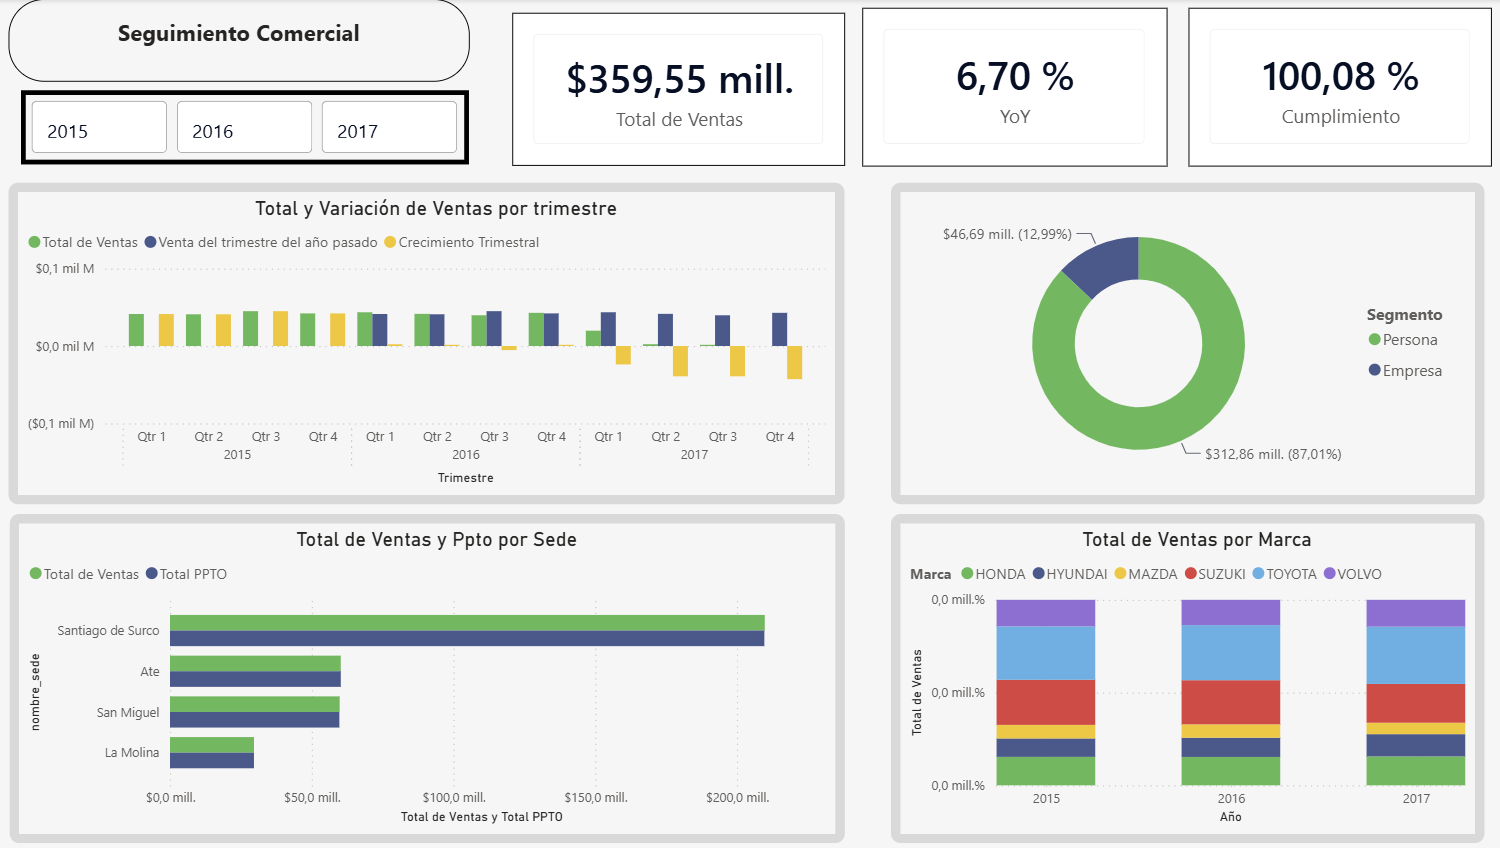

The dashboard page shown, as its layout file describes it:
{"tool":"powerbi","page":{"name":"Sales","canvas":[1280,720],"ordinal":0},"visuals":[{"type":"textbox","box":[10.5,0,388,69.4],"z":0},{"type":"advancedSlicerVisual","fields":{"Values":["DimFechas.Año"]},"box":[21.3,77.2,377.1,62.7],"z":1000},{"type":"cardVisual","fields":{"Data":["Tabla_Medidas.Total de Ventas"]},"box":[433.7,11.6,280.2,129.1],"z":2000},{"type":"cardVisual","fields":{"Data":["Tabla_Medidas.YoY"]},"box":[728.6,7.4,256.5,133.5],"z":3000},{"type":"cardVisual","fields":{"Data":["Tabla_Medidas.Cumplimiento"]},"box":[1003,7.4,255.5,133.5],"z":4000},{"type":"clusteredColumnChart","title":"Total y Variación de Ventas por trimestre","fields":{"Y":["Tabla_Medidas.Total de Ventas","Tabla_Medidas.Venta del trimestre del año pasado","Tabla_Medidas.Crecimiento Trimestral"],"Category":["DimFechas.Date.Variación.Jerarquía de fechas.Año","DimFechas.Date.Variación.Jerarquía de fechas.Trimestre"]},"box":[10.5,154.6,703.4,270.2],"z":5000},{"type":"donutChart","fields":{"Y":["Tabla_Medidas.Total de Ventas"],"Category":["Fact_Ventas.Segmento"]},"box":[752.8,154.6,499.4,270.2],"z":6000},{"type":"clusteredBarChart","title":"Total de Ventas y Ppto por Sede","fields":{"Y":["Tabla_Medidas.Total de Ventas","fact_Presupuestos.Total PPTO"],"Category":["dim_sede.nombre_sede"]},"box":[11.6,433.2,702.3,276.5],"z":7000},{"type":"hundredPercentStackedColumnChart","title":"Total de Ventas por Marca","fields":{"Category":["DimFechas.Date.Variación.Jerarquía de fechas.Año","DimFechas.Date.Variación.Jerarquía de fechas.Trimestre"],"Y":["Tabla_Medidas.Total de Ventas"],"Series":["dim_vehiculo.marca_vehiculo"]},"box":[753,433,499,277],"z":8000}]}

Visuals, with their boxes in screenshot pixels (x1, y1, x2, y2), scaled from the page's 1280x720 canvas onto the 1500x848 screenshot:
textbox: l=12, t=0, r=467, b=82
advancedSlicerVisual - DimFechas.Año: l=25, t=91, r=467, b=165
cardVisual - Tabla_Medidas.Total de Ventas: l=508, t=14, r=837, b=166
cardVisual - Tabla_Medidas.YoY: l=854, t=9, r=1154, b=166
cardVisual - Tabla_Medidas.Cumplimiento: l=1175, t=9, r=1475, b=166
"Total y Variación de Ventas por trimestre" clusteredColumnChart: l=12, t=182, r=837, b=500
donutChart - Tabla_Medidas.Total de Ventas x Fact_Ventas.Segmento: l=882, t=182, r=1467, b=500
"Total de Ventas y Ppto por Sede" clusteredBarChart: l=14, t=510, r=837, b=836
"Total de Ventas por Marca" hundredPercentStackedColumnChart: l=882, t=510, r=1467, b=836
